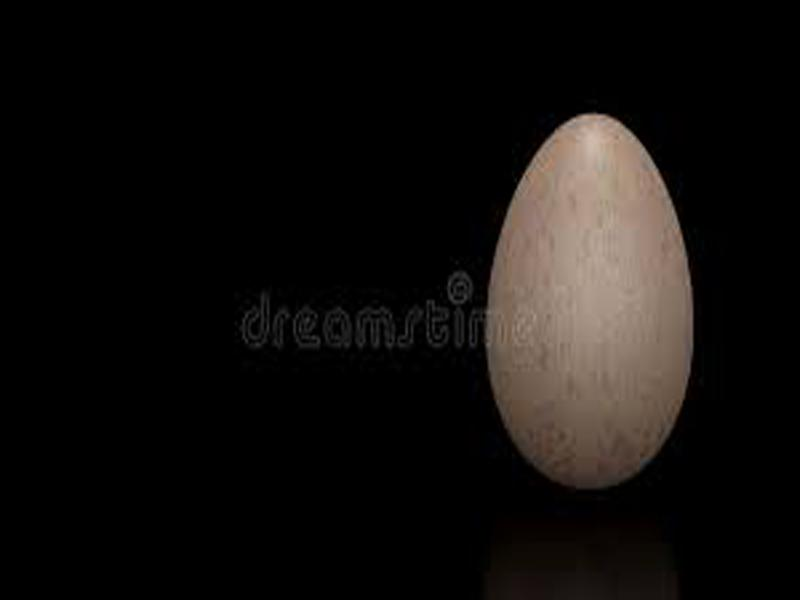Eggs: (488, 111, 693, 489)
